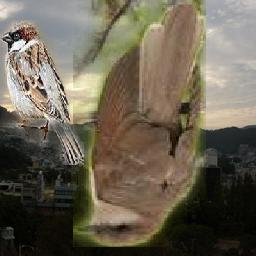Cuckoo: (74, 0, 207, 247)
Sparrow: (0, 21, 84, 166)
